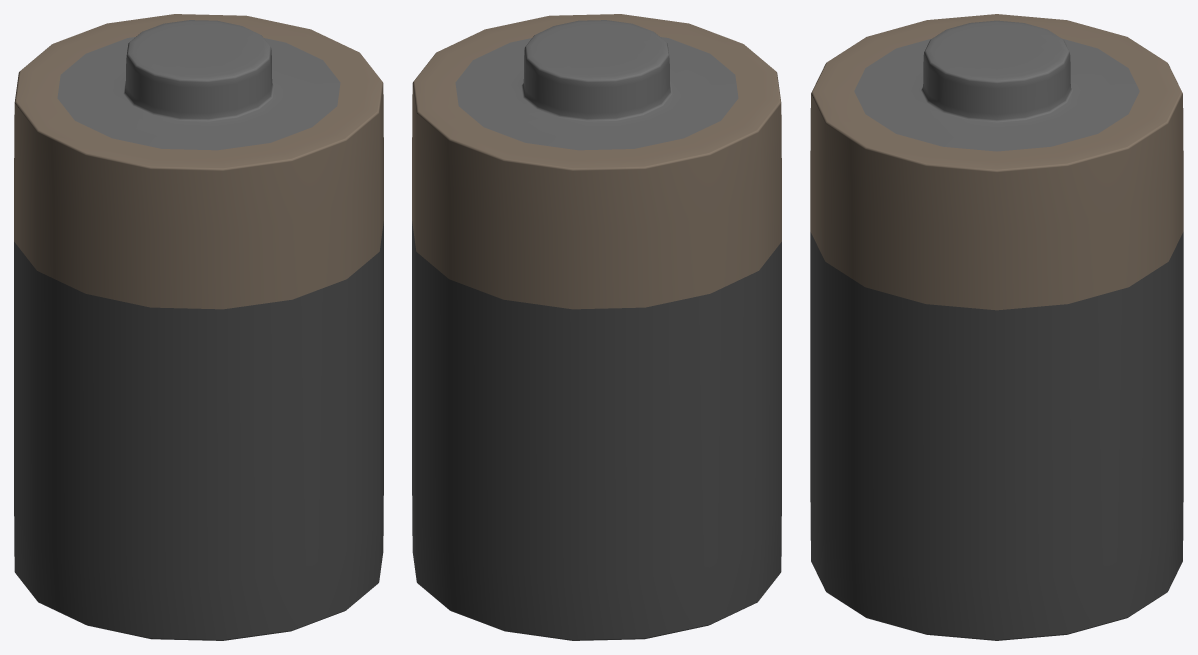
Rendered from battery_shaded_v001.fbx.
The picture shows the model from 3 angles, left to right: view 1: azimuth 30°, elevation 25°; view 2: azimuth 150°, elevation 25°; view 3: azimuth 270°, elevation 25°; orthographic projection.
Parts seen in each view (by area): view 1: battery_geo; view 2: battery_geo; view 3: battery_geo.
Part boxes in pixels (x1,y1,x2,y2): battery_geo: (14,14,383,640); battery_geo: (412,14,781,640); battery_geo: (810,14,1183,640).
Bounding box in the file's own units: 3.06 × 4.65 × 3.06.
